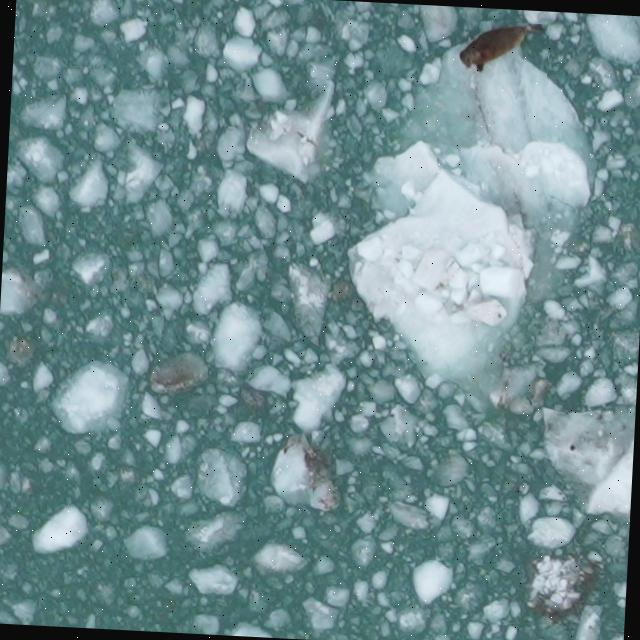seal: (456, 21, 550, 79)
